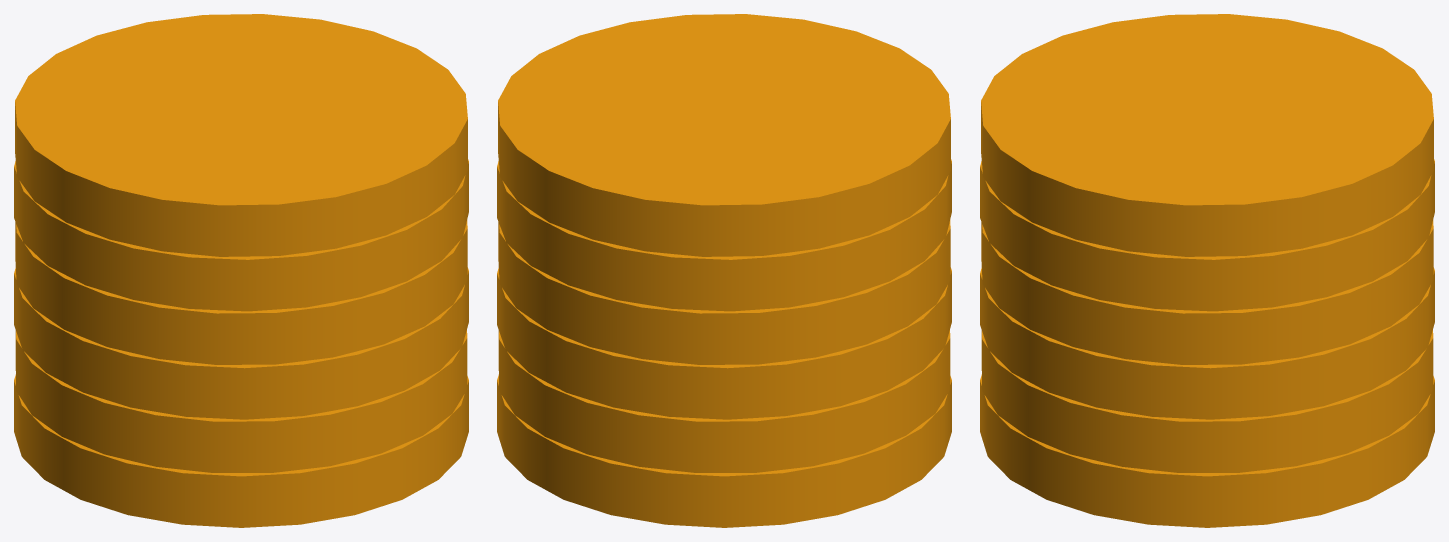
File: coin-stack.glb
3 renders of one model, left to right at view 1: azimuth 30°, elevation 25°; view 2: azimuth 150°, elevation 25°; view 3: azimuth 270°, elevation 25°, orthographic.
Size of the model in its own units: 0.8 by 0.625 by 0.8.
